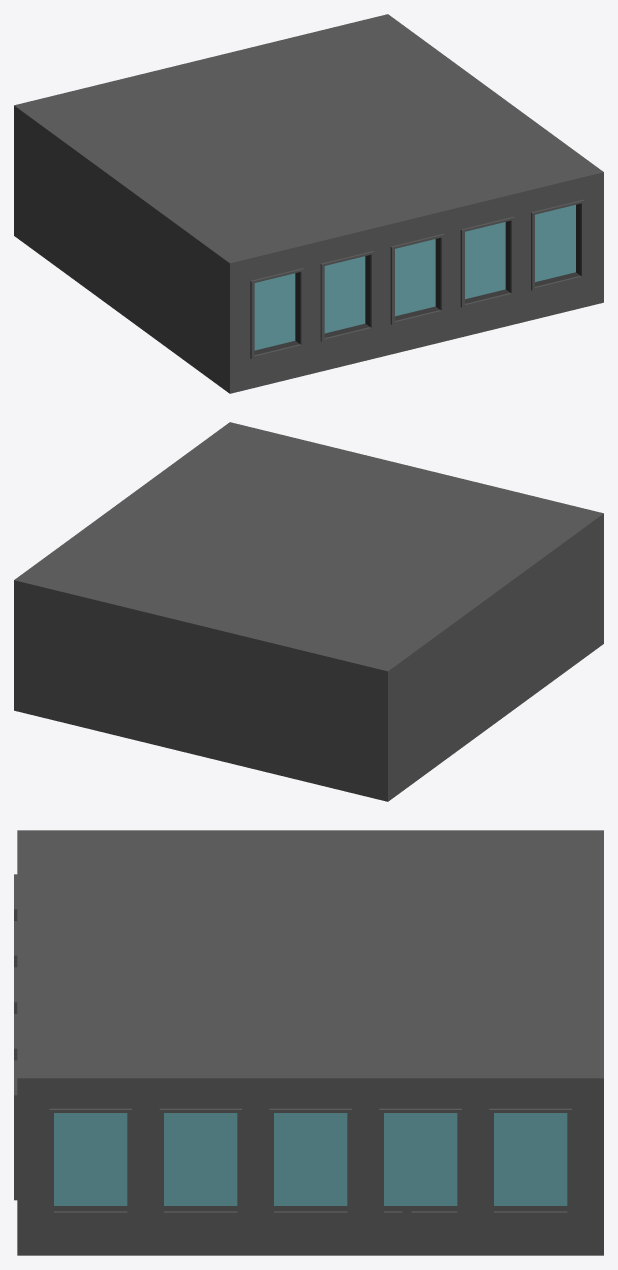
Rendered from block.glb.
3 renders of one model, top to bottom at view 1: azimuth 30°, elevation 25°; view 2: azimuth 150°, elevation 25°; view 3: azimuth 270°, elevation 25°, orthographic. The views are drawn at different scales.
Visible parts, largest first — view 1: Cube; view 2: Cube; view 3: Cube.
Part boxes in pixels (box(x1,y1,x2,y2)): Cube: box(14, 14, 603, 393); Cube: box(14, 422, 603, 801); Cube: box(14, 830, 603, 1255).
Bounding box in the file's own units: 3.02 × 1 × 3.02.
